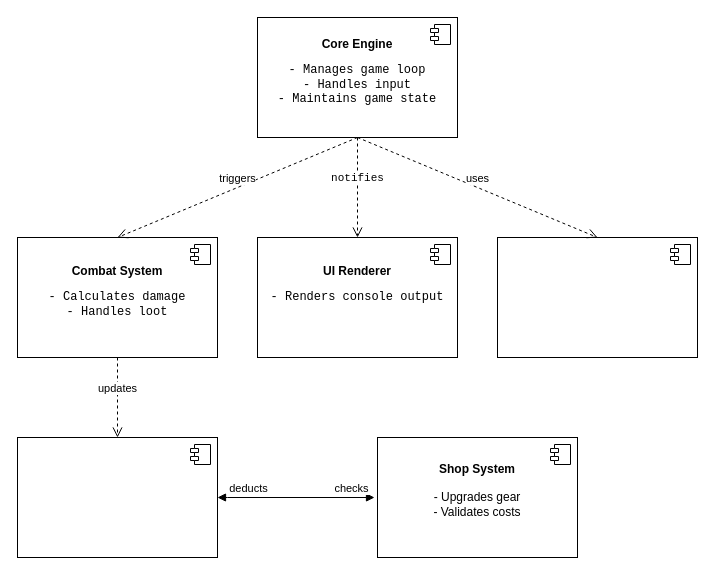
Some shapes in this 715 by 575 pixel diagram are drawn without their labels. Each missing label, with the centre of its shape:
"Map Manager - Stores grid data - Checks collisions" belongs at [597,297].
"Resource System - Tracks wood, stone, gold" belongs at [117,497].
